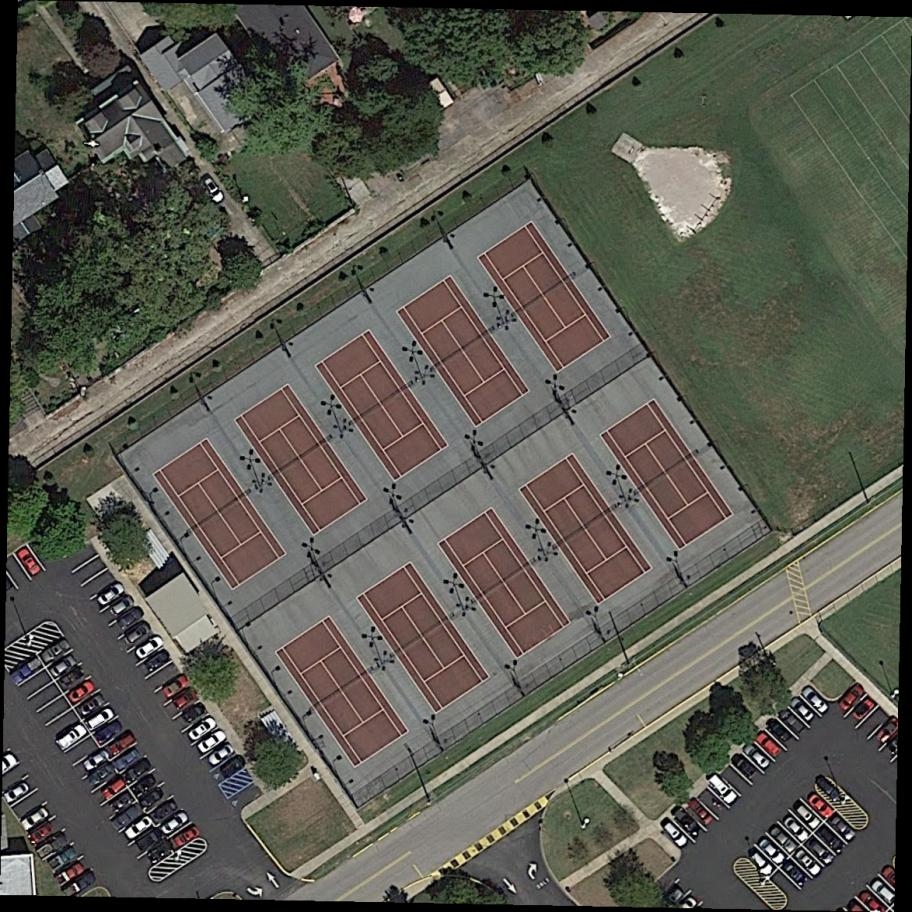small-vehicle: (704, 767, 741, 808), (683, 793, 718, 829), (61, 868, 99, 900), (669, 803, 702, 839), (33, 832, 70, 864), (9, 654, 45, 686), (107, 802, 143, 834), (753, 729, 787, 762), (826, 812, 860, 845), (53, 721, 89, 752), (742, 740, 775, 773), (767, 823, 800, 856), (804, 788, 836, 821), (815, 823, 848, 855), (803, 834, 836, 866), (792, 847, 825, 879), (788, 694, 820, 727), (65, 676, 99, 707), (183, 714, 218, 744), (84, 704, 119, 734), (801, 684, 833, 716), (793, 798, 824, 831), (56, 664, 90, 694), (159, 810, 192, 840), (757, 835, 788, 866), (777, 706, 808, 737), (660, 817, 690, 849), (74, 692, 107, 721), (121, 757, 154, 786), (123, 814, 156, 843), (148, 798, 181, 827), (143, 840, 176, 869), (47, 846, 80, 875), (194, 728, 228, 756), (39, 637, 73, 665), (19, 805, 53, 833), (730, 752, 761, 782), (780, 857, 811, 887), (837, 682, 868, 712), (106, 729, 138, 758), (206, 740, 238, 769), (218, 752, 250, 781), (92, 719, 125, 747), (95, 581, 128, 609), (131, 634, 164, 662), (765, 717, 795, 747), (782, 813, 812, 843), (159, 673, 191, 701), (47, 653, 79, 681), (140, 648, 172, 676), (15, 546, 43, 578), (27, 818, 59, 846), (113, 745, 144, 773), (2, 779, 33, 807), (201, 172, 227, 205), (85, 761, 116, 788), (114, 605, 145, 632), (133, 828, 164, 855), (54, 862, 86, 888), (748, 849, 776, 877), (131, 772, 160, 799), (82, 747, 111, 774), (99, 775, 128, 802), (851, 696, 880, 723), (122, 621, 152, 647), (172, 825, 203, 850), (179, 701, 208, 727), (107, 594, 136, 620), (139, 785, 168, 811), (169, 687, 199, 712), (107, 789, 135, 815)
